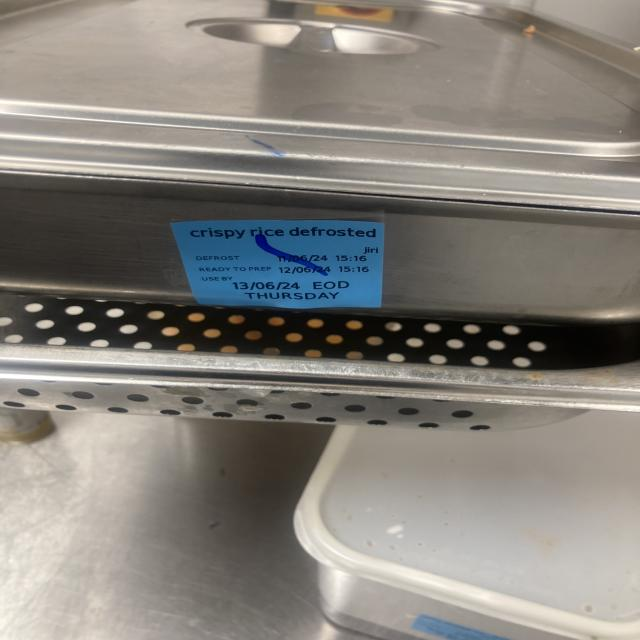product-labels: (172, 217, 390, 313)
